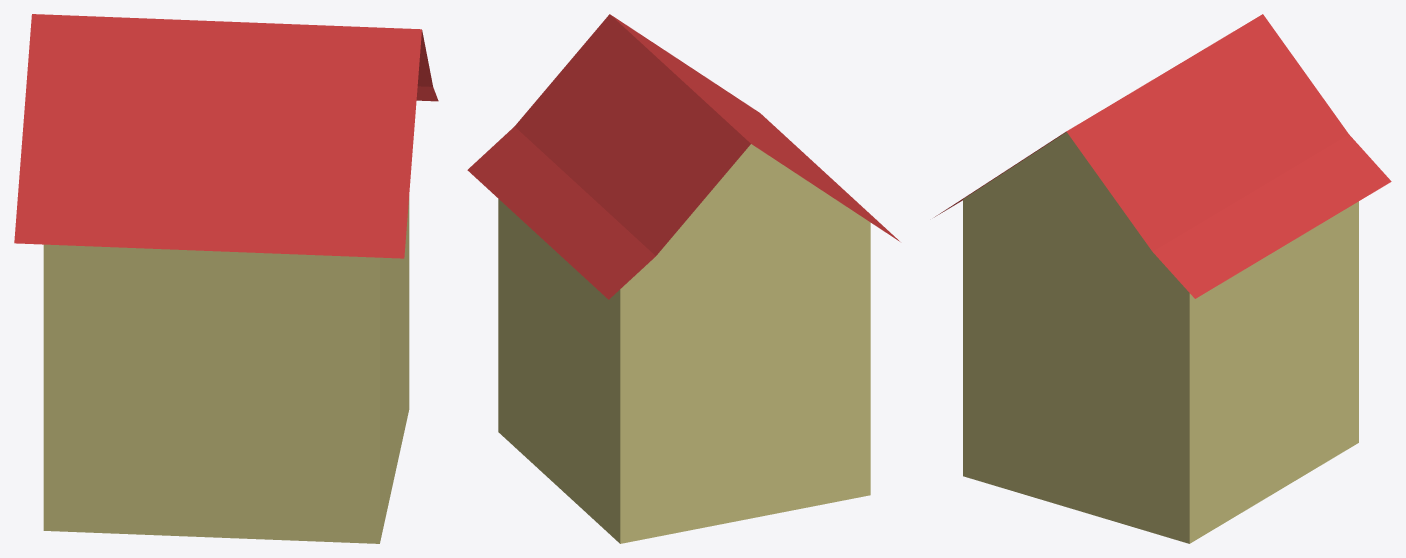
3 views of the same model, side by side, from view 1: azimuth 30°, elevation 25°; view 2: azimuth 150°, elevation 25°; view 3: azimuth 270°, elevation 25° (orthographic). The views are drawn at different scales.
Bounding box in the file's own units: 14.81 × 14.69 × 13.62.
